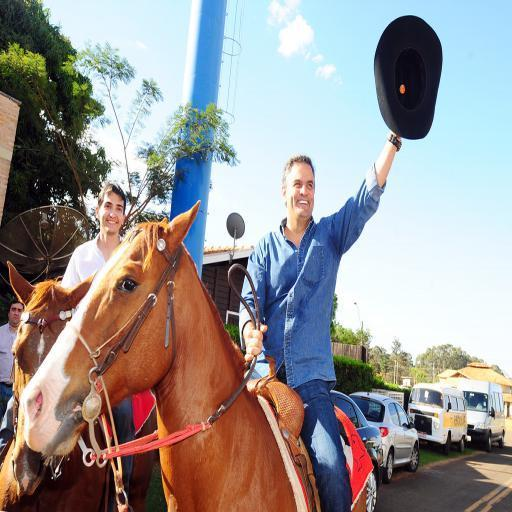horse: (20, 198, 368, 512), (0, 262, 158, 512)
